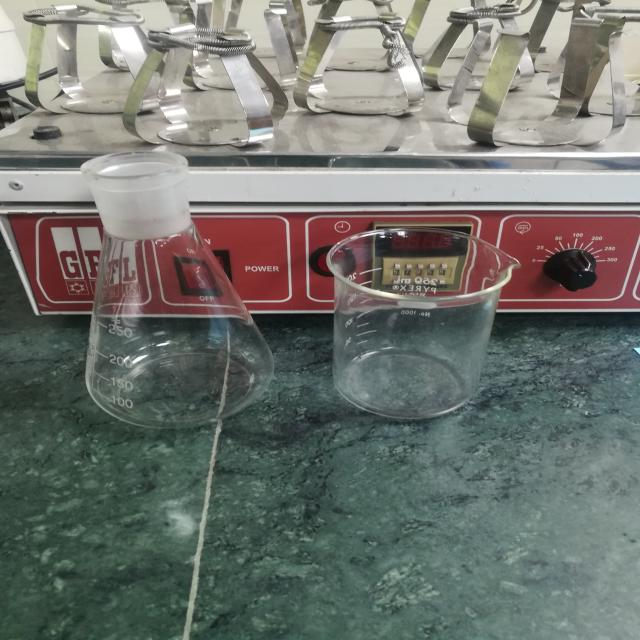Beaker: (308, 206, 538, 442)
Conical_Flask: (50, 130, 282, 450)
